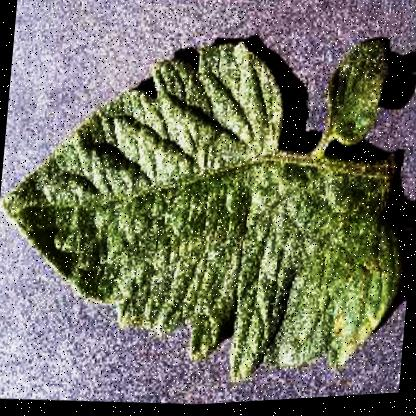Healthy: (0, 2, 415, 412)
